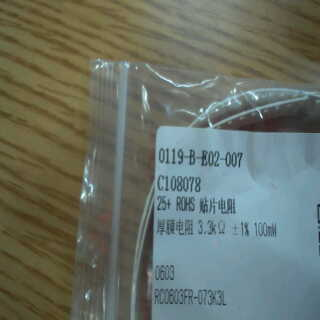3.3kO: (196, 217, 228, 240)
